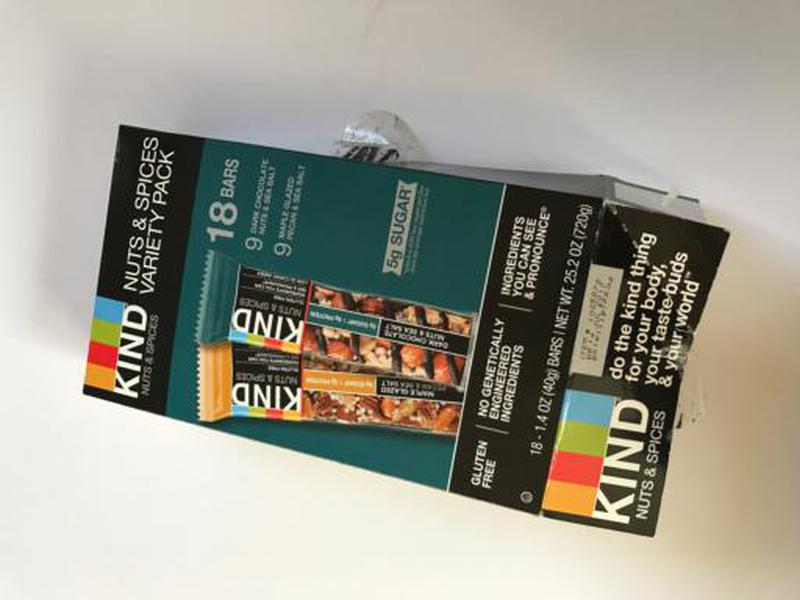paper: (75, 105, 735, 542)
